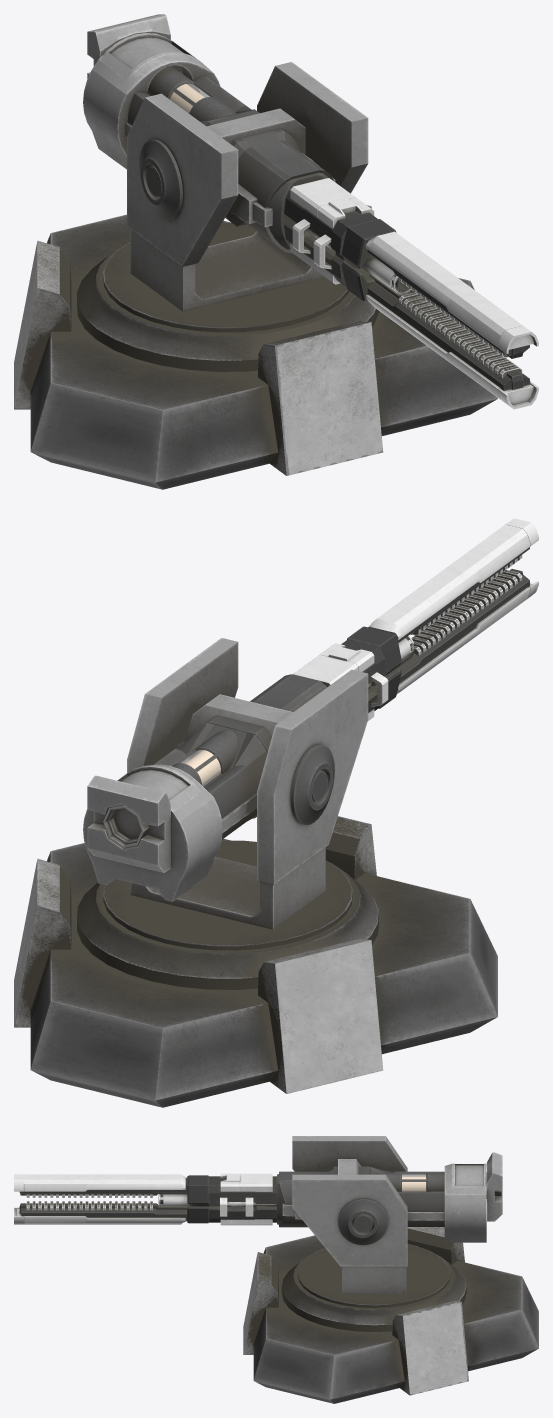
The model's file is railgun_turret.glb.
The picture shows the model from 3 angles, top to bottom: view 1: azimuth 30°, elevation 25°; view 2: azimuth 150°, elevation 25°; view 3: azimuth 270°, elevation 25°; orthographic projection. The views are drawn at different scales.
Visible parts, largest first — view 1: rail, rail.001, rail.005, rail.004, rail.002; view 2: rail, rail.001, rail.005, rail.004, rail.002; view 3: rail, rail.001, rail.005, rail.004, rail.002.
Part boxes in pixels (x1,y1,x2,y2): rail: [14, 205, 497, 489]; rail.001: [83, 14, 538, 409]; rail.005: [127, 62, 368, 311]; rail.004: [103, 222, 349, 332]; rail.002: [139, 139, 182, 220]; rail: [14, 816, 497, 1107]; rail.001: [83, 518, 538, 901]; rail.005: [127, 638, 368, 929]; rail.004: [103, 840, 352, 950]; rail.002: [177, 741, 334, 825]; rail: [243, 1227, 538, 1403]; rail.001: [14, 1152, 502, 1242]; rail.005: [292, 1136, 407, 1293]; rail.004: [297, 1244, 450, 1307]; rail.002: [338, 1199, 388, 1245].
Size of the model in its own units: 9.67 by 5.94 by 15.4.
Materials: 3 (3 with a texture image).
